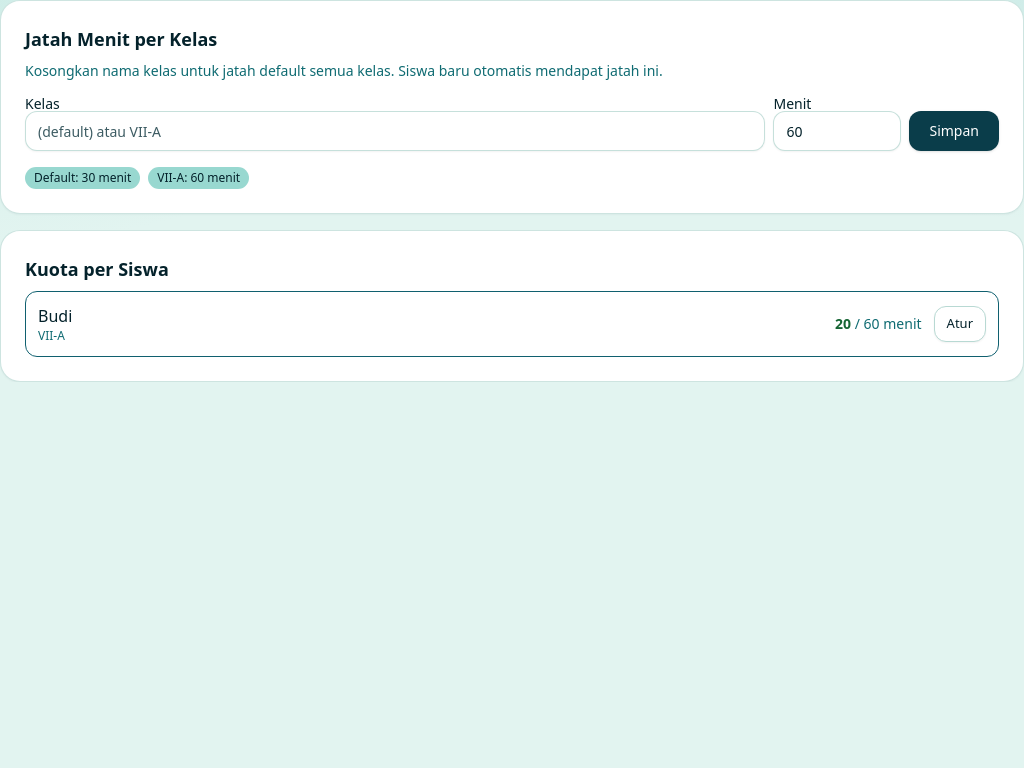
Scenario: QuotasTab › membuka dialog Atur dengan total menit terisi
The width and height of the screenshot is (1024, 768).
Click the button "Atur" at [960, 324], box [934, 306, 986, 342]
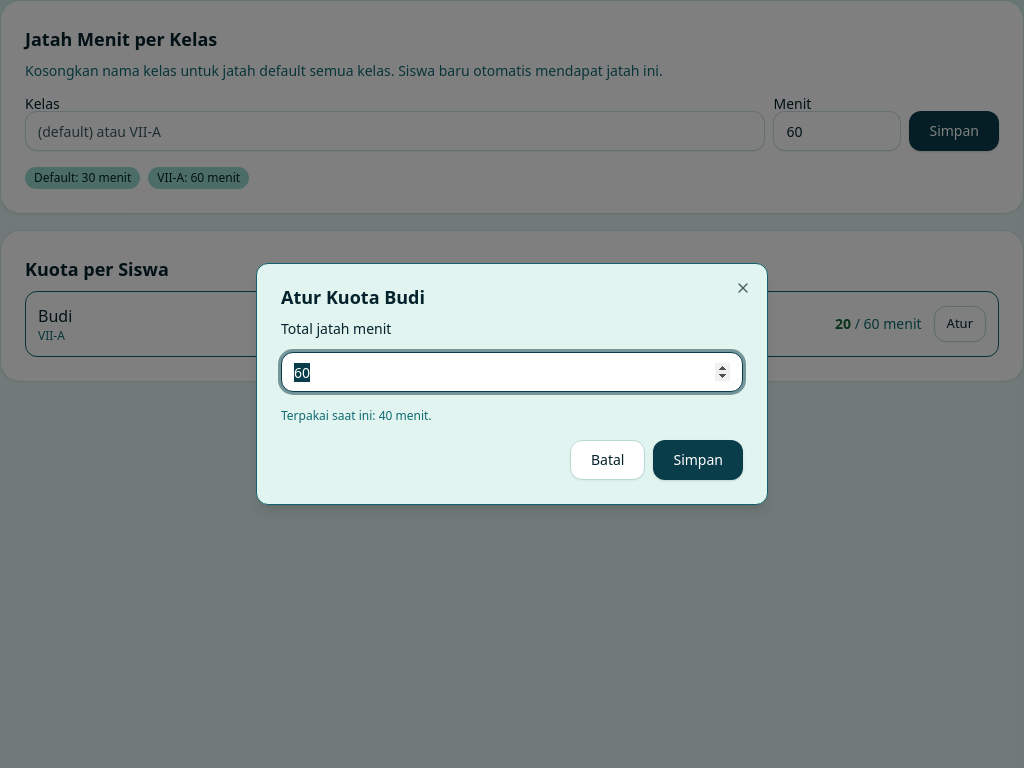
Expected: the heading "Atur Kuota Budi" is shown, [281, 285, 425, 309]
Expected: the number field with id "es-min" holds "60", [281, 352, 743, 392]
